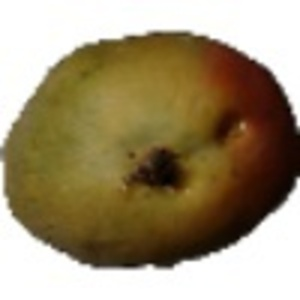mamão: (2, 18, 297, 277)
